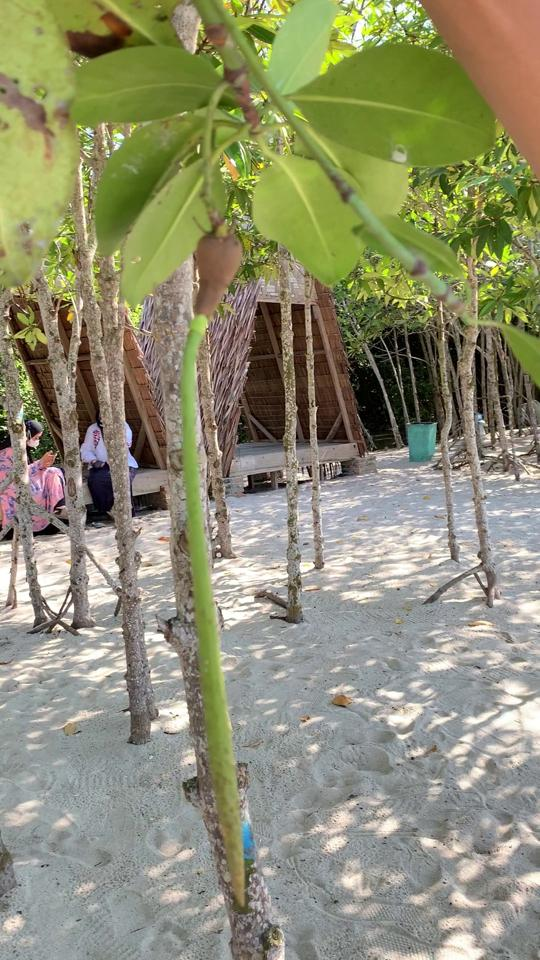setengah matang: (166, 206, 280, 914)
